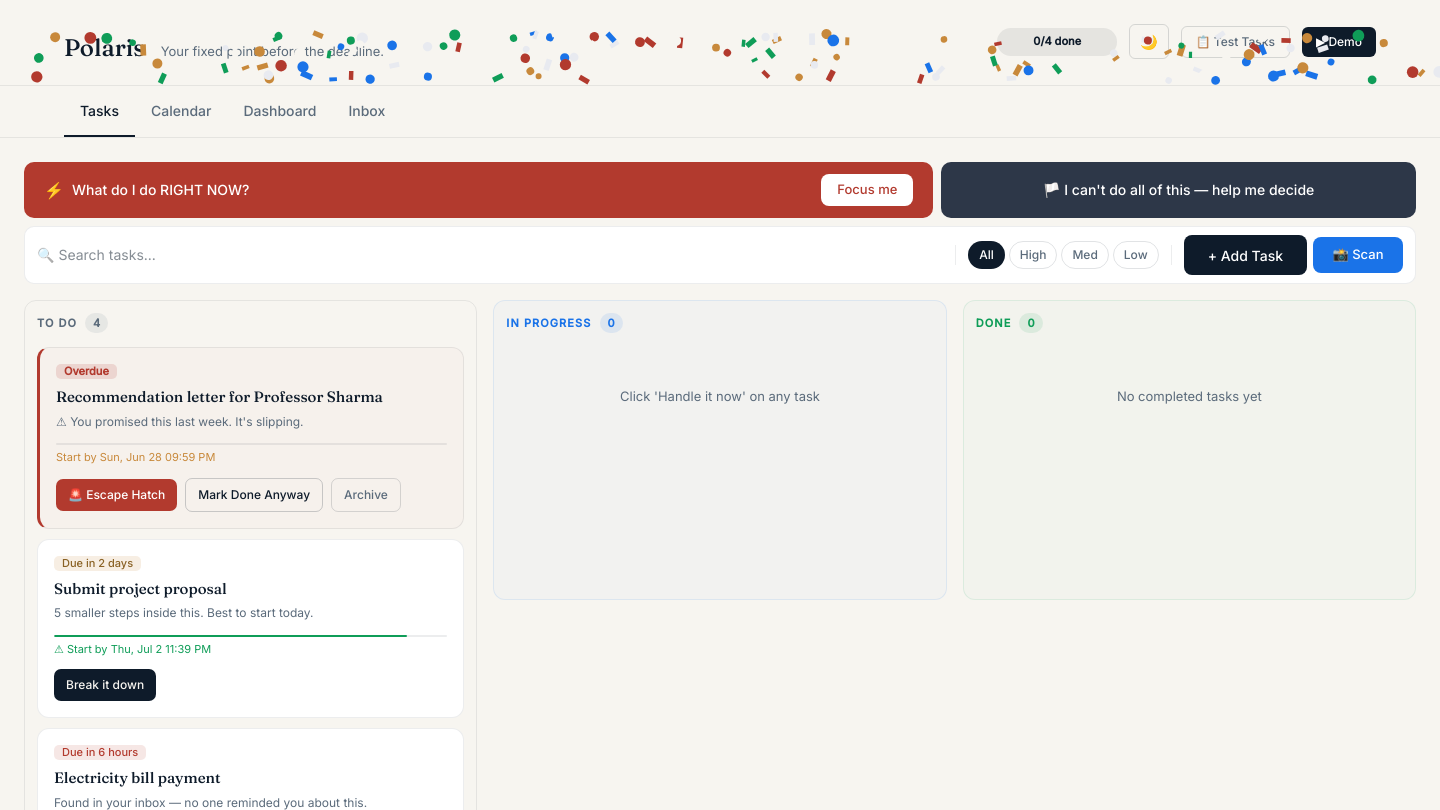
Test: Renegotiation Agent Feature › Successful renegotiation API response opens modal and displays sections
Click the button "🏳️ I can't do all of this — help me decide" at (1179, 190), box [941,162,1416,218]
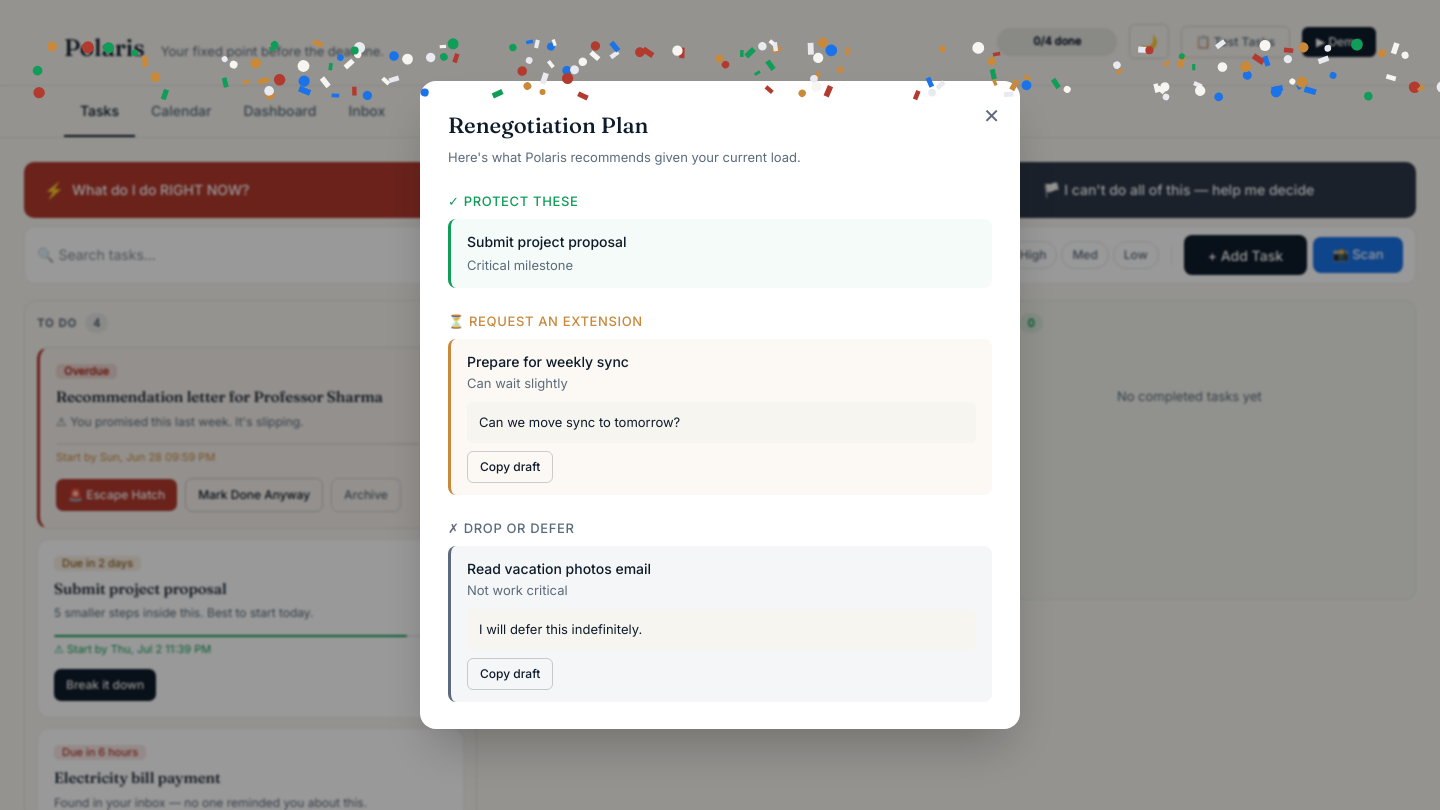
Check: the heading "Renegotiation Plan" is shown, box [448,111,648,139]
Check: the heading "✓ Protect these" is shown, box [448,192,578,208]
Check: the heading "⏳ Request an extension" is shown, box [448,312,643,328]
Click the button "Copy draft" below "Can we move sync to tomorrow?" at (510, 467), box [467,451,553,483]
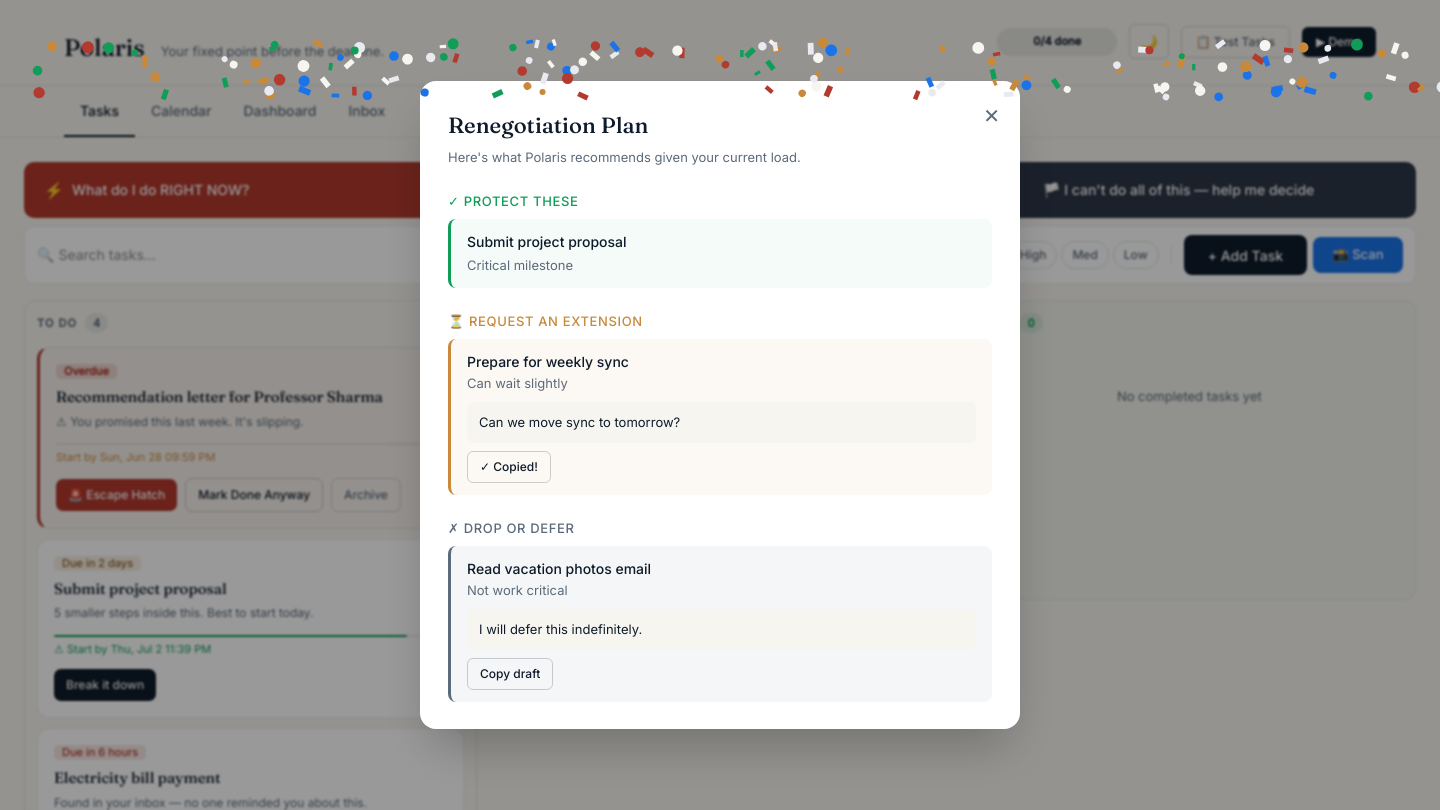
Check: the button "✓ Copied!" is shown, box [467,451,551,483]
Click the button "✕" at (992, 116), box [983,101,1000,131]
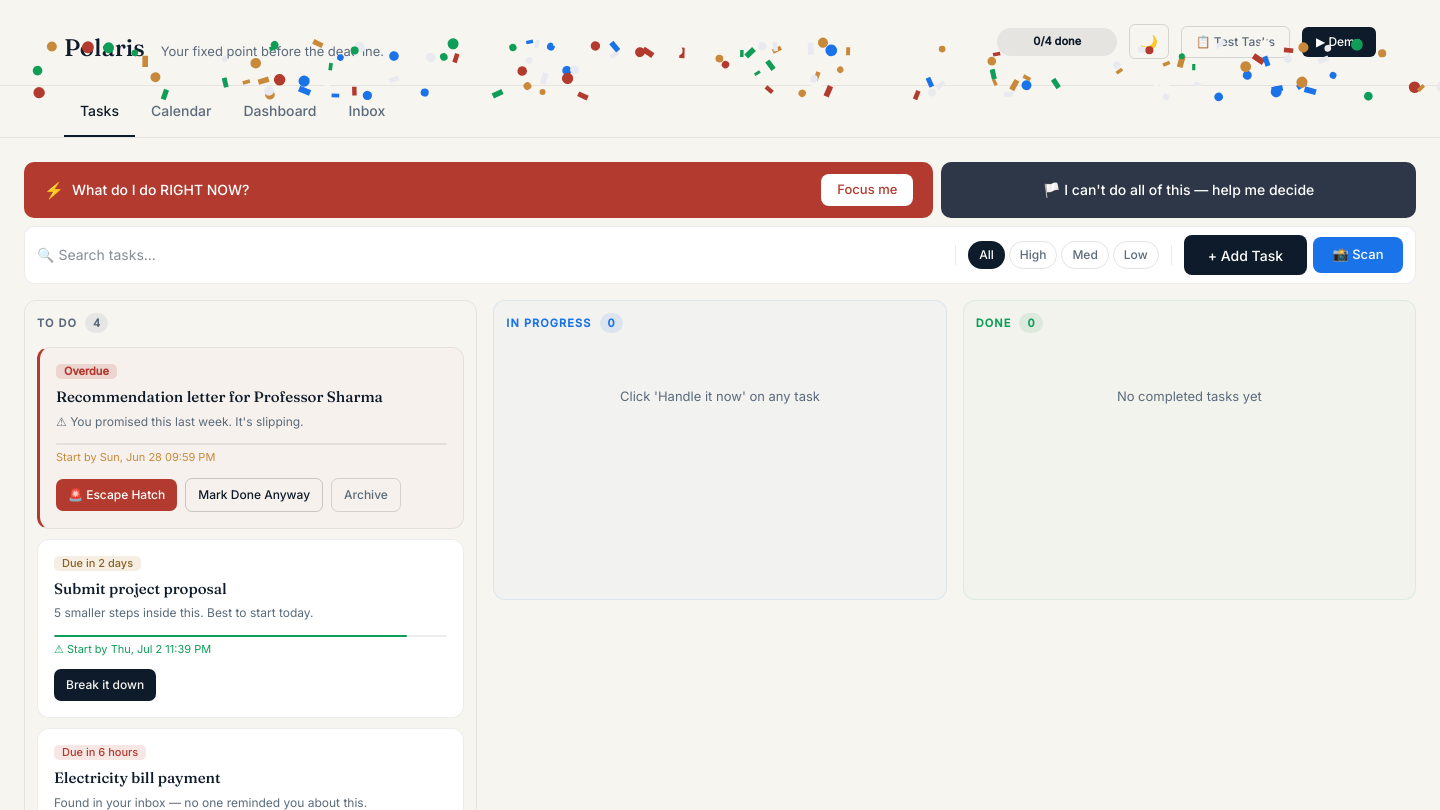
Check: the heading "Renegotiation Plan" is gone
